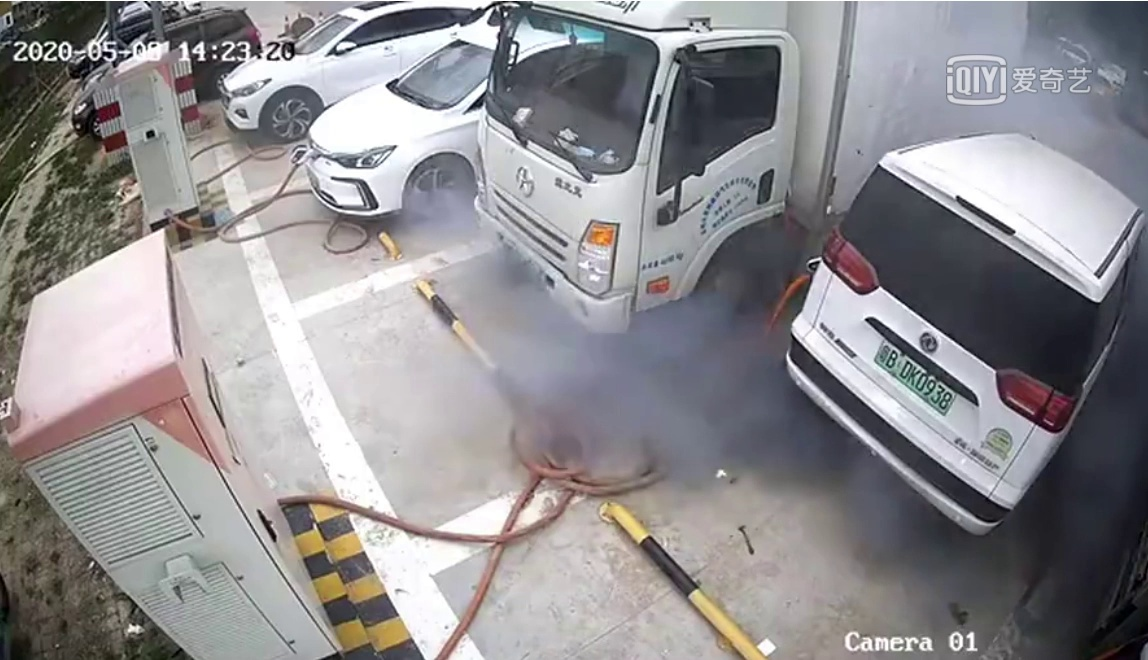smoke: (473, 280, 813, 478), (1037, 386, 1136, 587), (839, 449, 935, 580)
